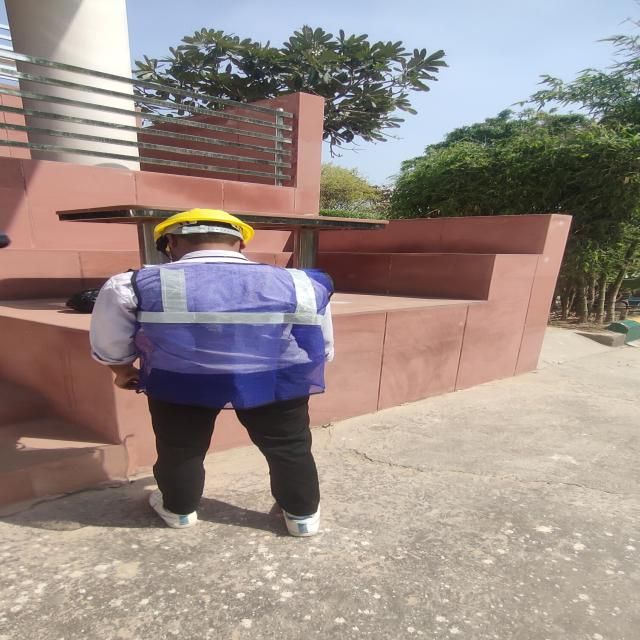safe: (87, 207, 334, 539)
